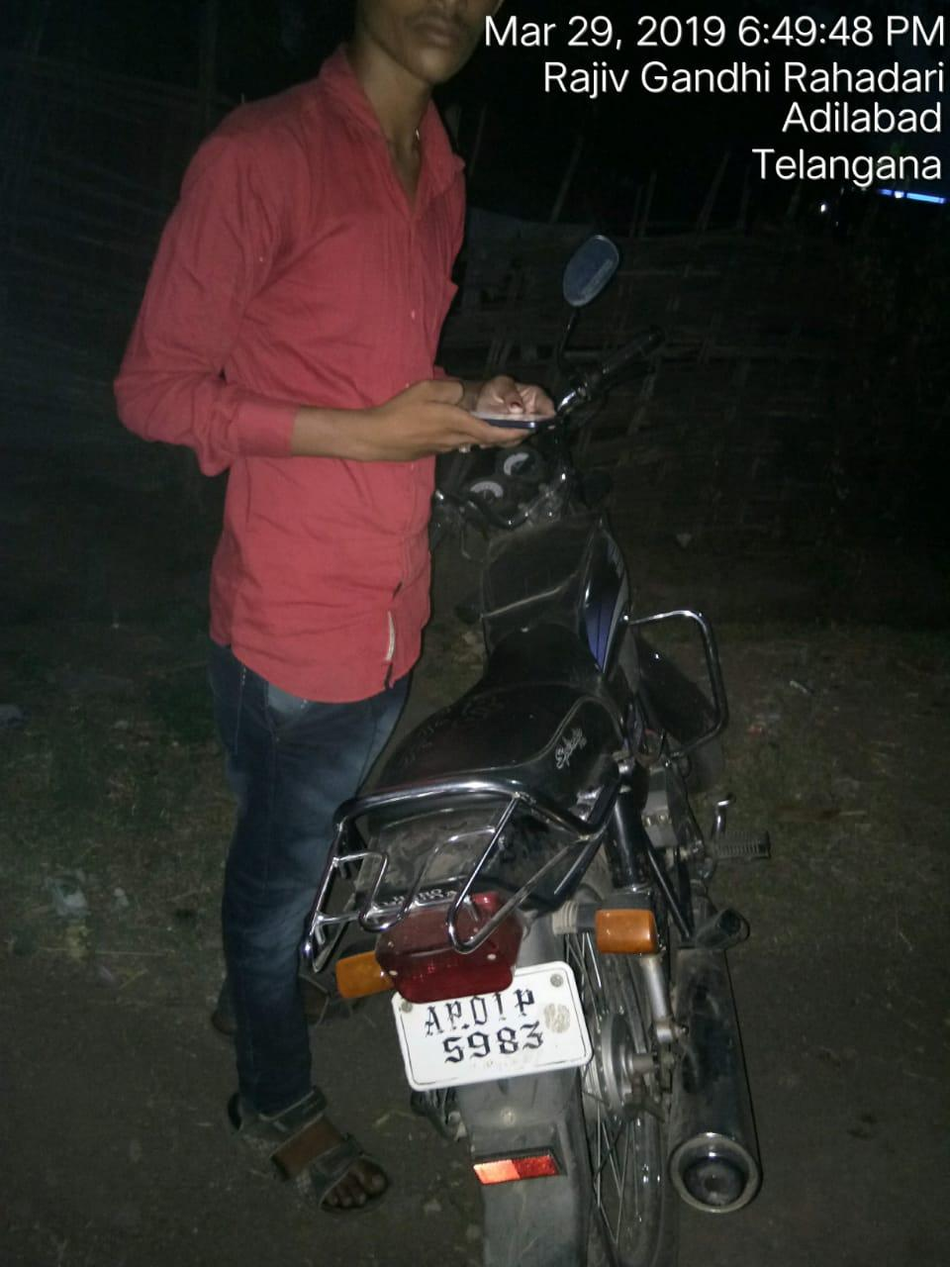plate: (370, 965, 618, 1108)
